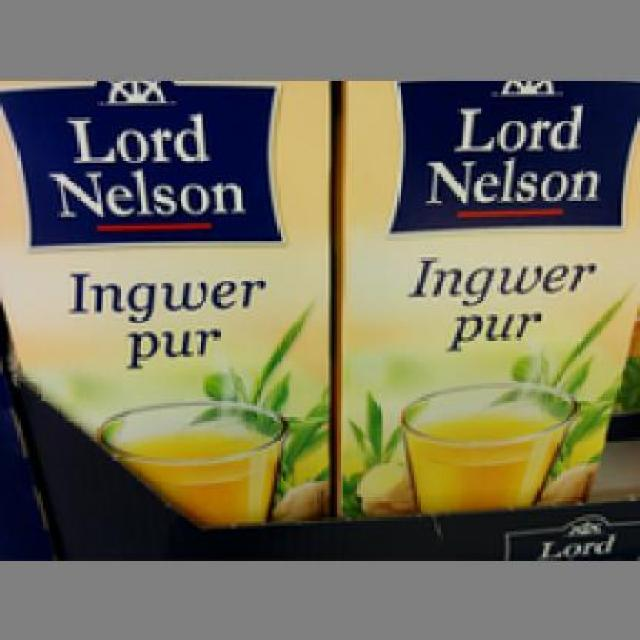Tea: (0, 76, 332, 521), (328, 77, 638, 514)
